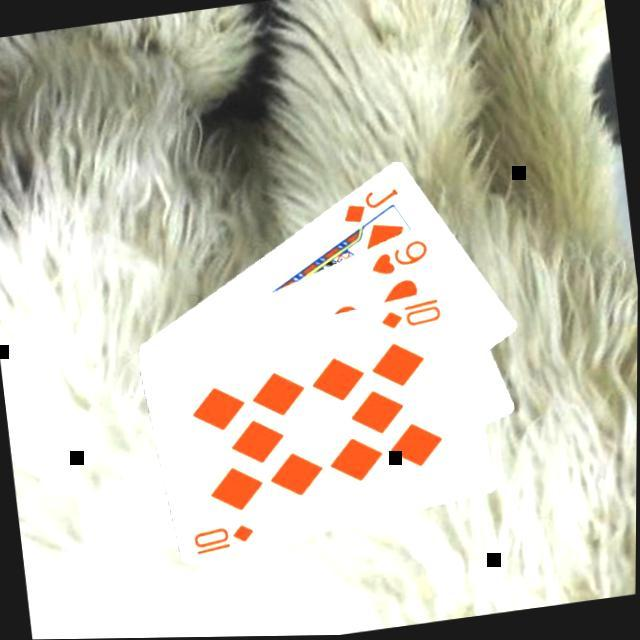10D: (192, 520, 262, 560), (378, 296, 447, 334)
9H: (367, 236, 436, 282)
JD: (339, 185, 407, 231)
